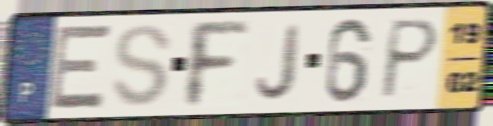6: (322, 15, 375, 106)
E: (46, 22, 115, 113)
F: (184, 18, 252, 111)
J: (253, 21, 305, 103)
P: (376, 16, 442, 102)
S: (109, 22, 175, 110)
